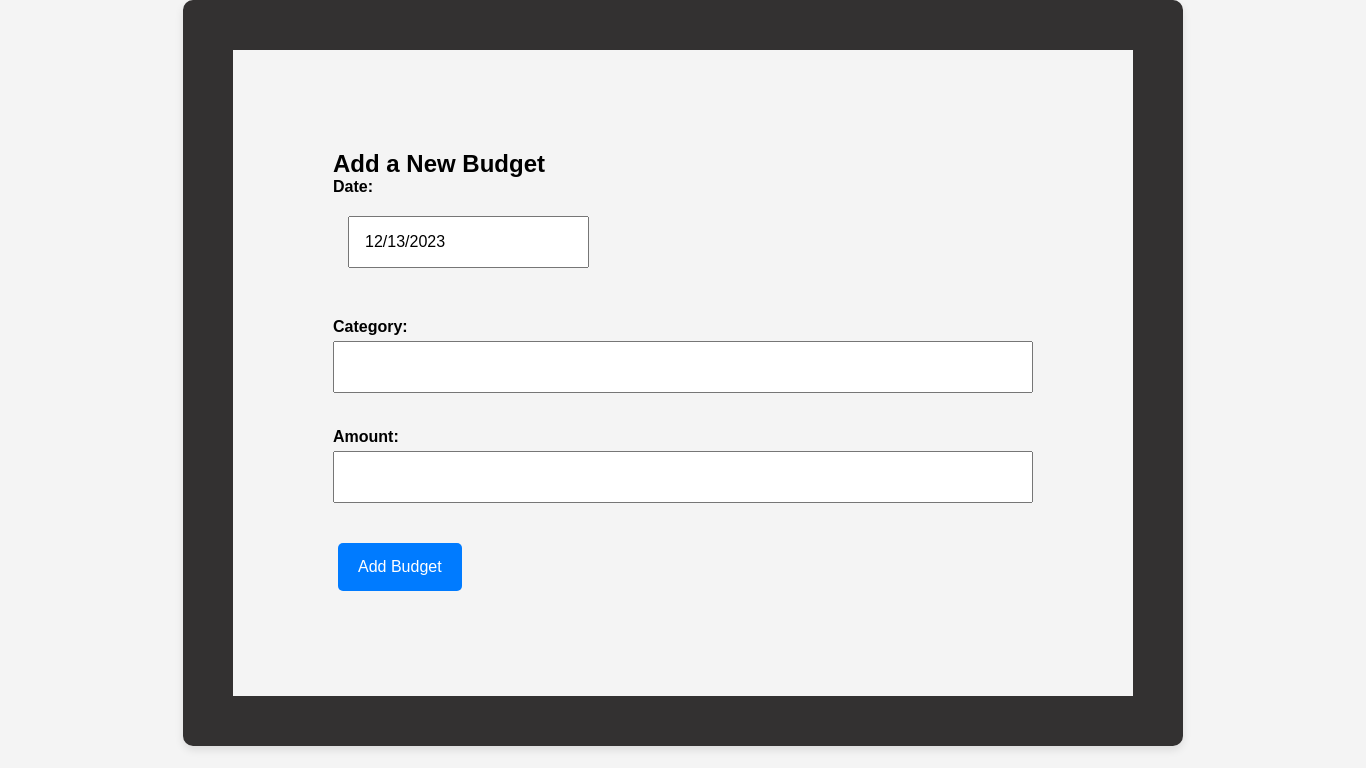
Scenario: AddBudget component › should display error notifications when input fields are empty
The image size is (1366, 768).
Click the button "Add Budget" at (400, 567), box [338,543,462,591]
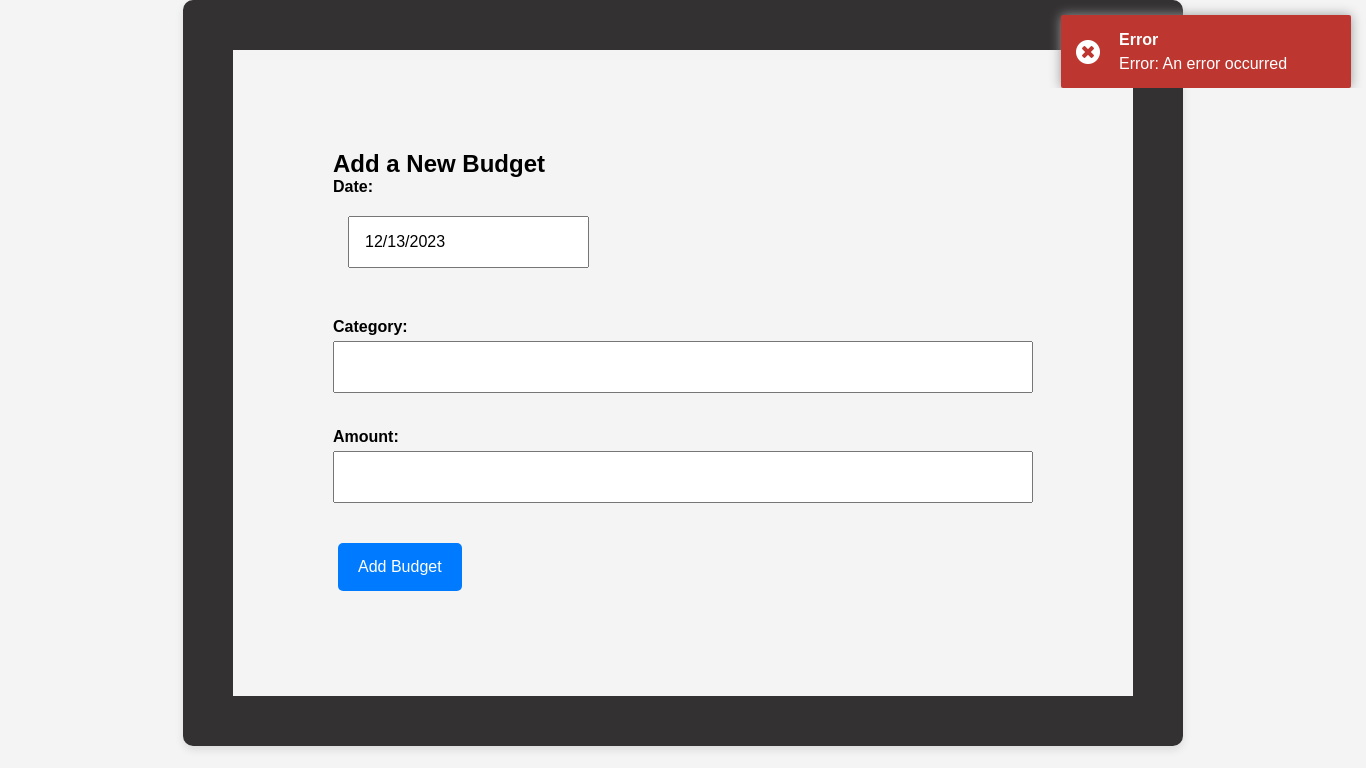
expect the text "Error: An error occurred" is shown: met, box [1119,55,1287,72]
